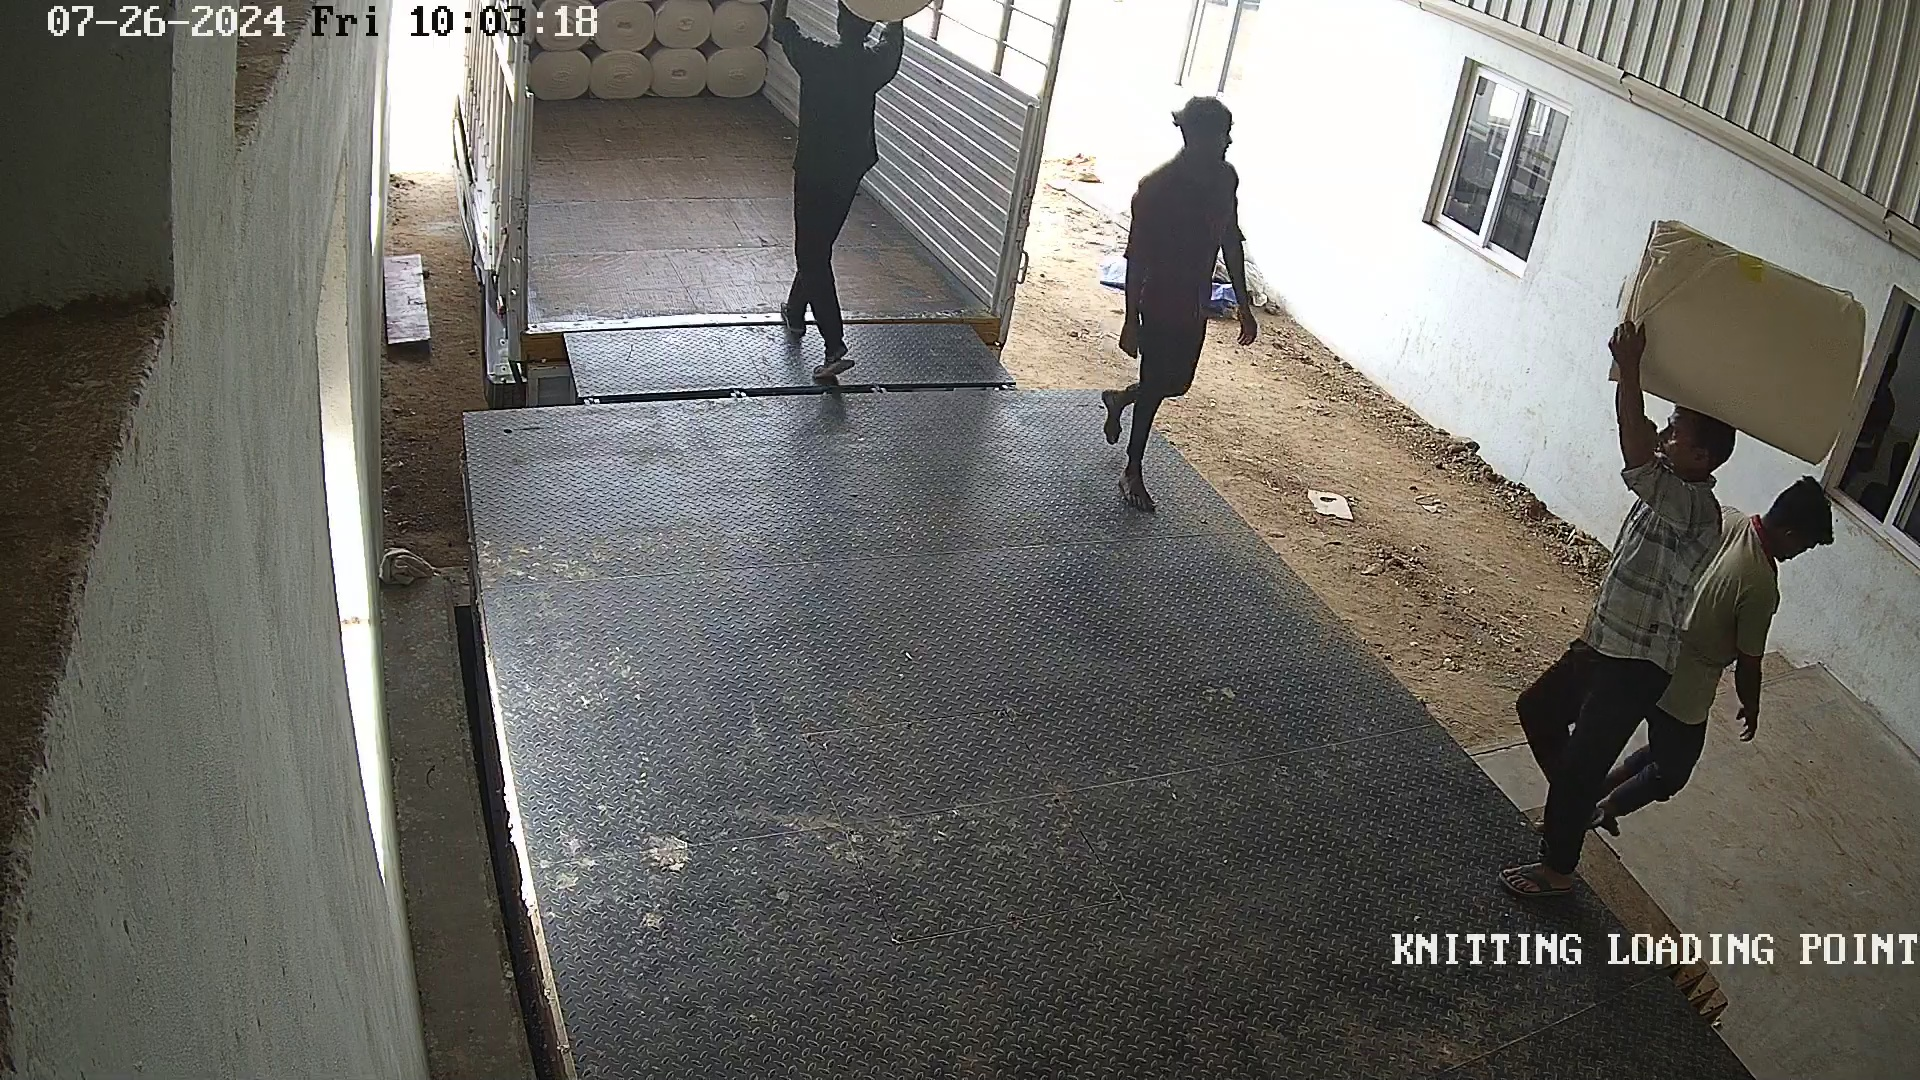bag: (1600, 190, 1869, 469)
